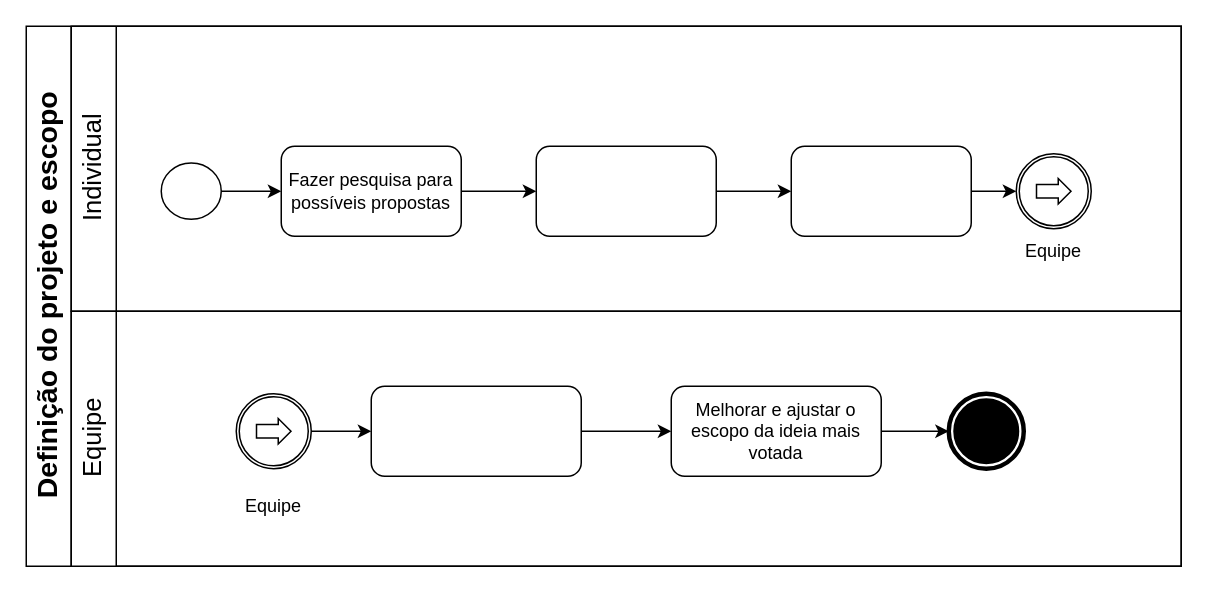
Some shapes in this 1208 by 593 pixel diagram are drawn without their labels. Here are the shapes that lost their labels. From the top down, the centre of each, then its label:
[625,190]: Realização de brainstorm
[880,190]: Discussão da ideia proposta
[475,430]: Fazer votação para decidir entre as ideias propostas
